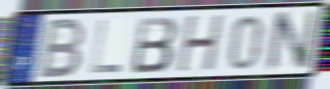0: (227, 13, 267, 71)
B: (36, 16, 88, 81), (129, 15, 180, 75)
H: (174, 12, 227, 75)
L: (88, 18, 123, 75)
N: (263, 8, 321, 74)
